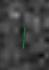one: (19, 19, 27, 50)
